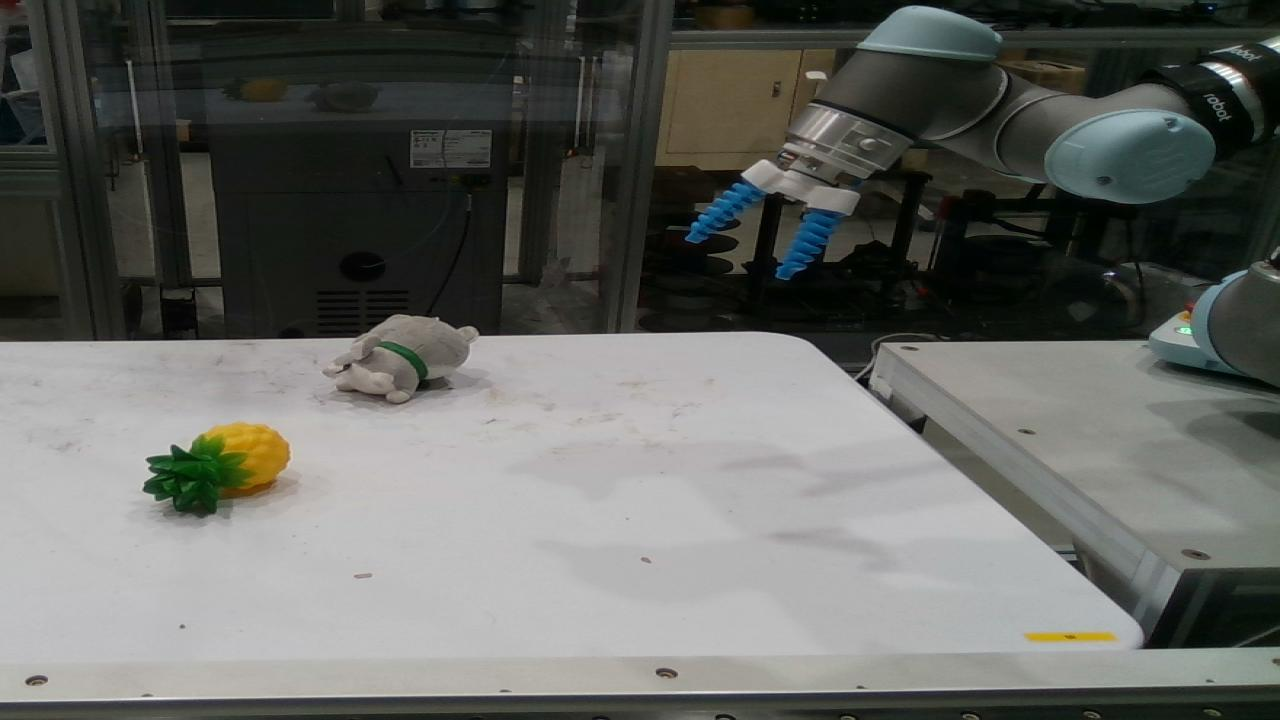UR5: (742, 3, 1278, 213), (1192, 253, 1278, 386)
gripper_left: (690, 183, 760, 242)
gripper_right: (780, 209, 836, 278)
target: (324, 316, 476, 403), (146, 424, 291, 513)
